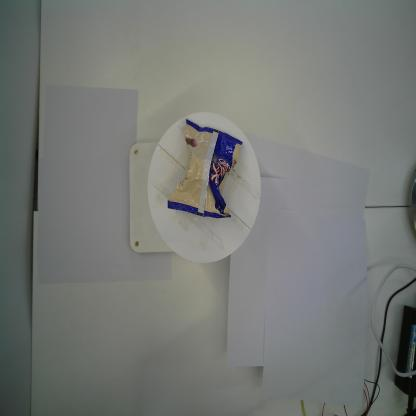Dessert: (167, 117, 244, 220)
